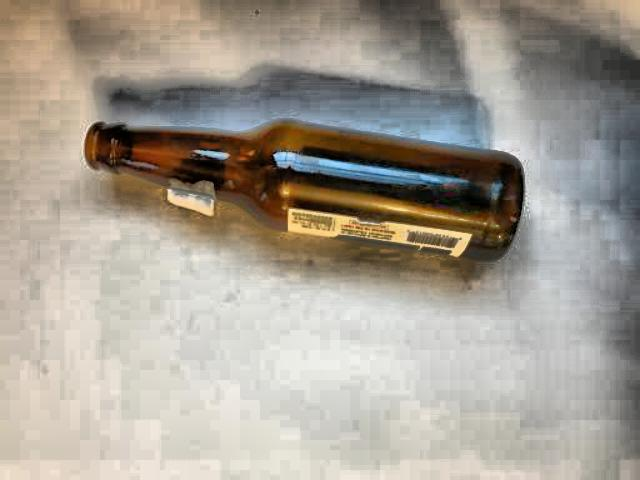Bottles: (77, 88, 547, 293)
